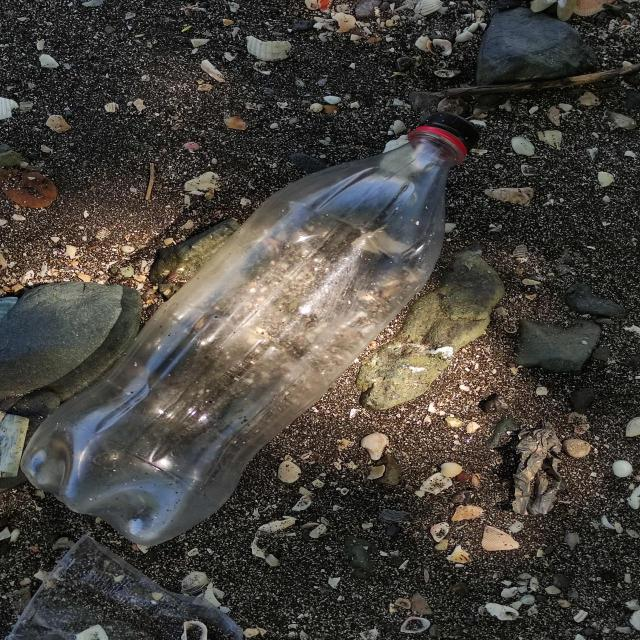plastic_waste: (26, 112, 480, 550)
